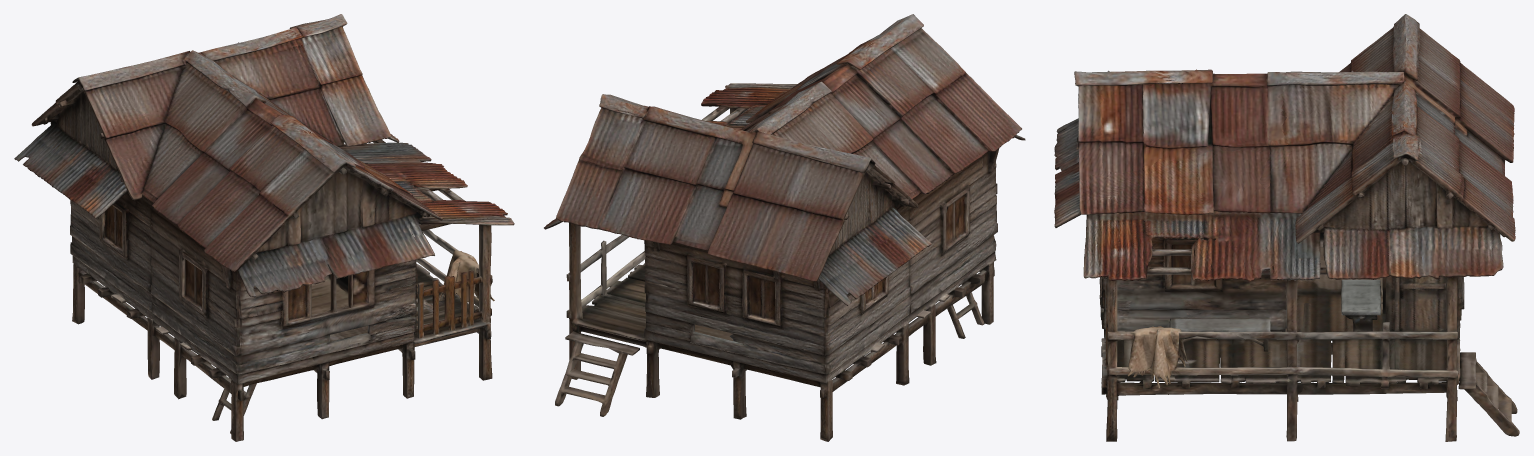
The model's file is rusty_roof_wooden_house_1_3d_model_free.glb.
3 views of the same model, side by side, from view 1: azimuth 30°, elevation 25°; view 2: azimuth 150°, elevation 25°; view 3: azimuth 270°, elevation 25° (orthographic). The views are drawn at different scales.
Visible parts, largest first — view 1: tripo_node_792e7f65-178c-4ff1-8d20-12fedf6fb08b_0; view 2: tripo_node_792e7f65-178c-4ff1-8d20-12fedf6fb08b_0; view 3: tripo_node_792e7f65-178c-4ff1-8d20-12fedf6fb08b_0.
Part boxes in pixels (x1,y1,x2,y2): tripo_node_792e7f65-178c-4ff1-8d20-12fedf6fb08b_0: (14,14,514,441); tripo_node_792e7f65-178c-4ff1-8d20-12fedf6fb08b_0: (544,14,1025,441); tripo_node_792e7f65-178c-4ff1-8d20-12fedf6fb08b_0: (1054,14,1519,441).
Size of the model in its own units: 0.8406 by 0.687 by 1.
1 material, 1 textured.
